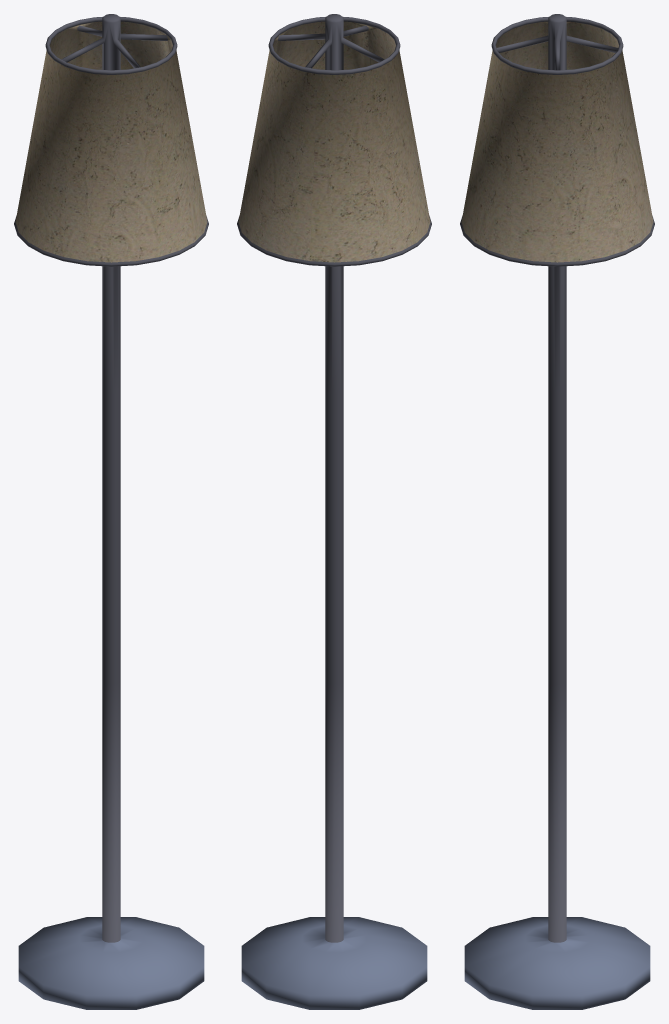
Rendered from floorlamp.obj.
The picture shows the model from 3 angles, left to right: view 1: azimuth 30°, elevation 25°; view 2: azimuth 150°, elevation 25°; view 3: azimuth 270°, elevation 25°; orthographic projection.
Parts seen in each view (by area): view 1: Default; view 2: Default; view 3: Default.
Boxes of the visible parts, <box> form: Default: <box>14,14,208,1009</box>; Default: <box>237,14,431,1009</box>; Default: <box>460,14,654,1009</box>.
Size of the model in its own units: 0.304 by 1.64 by 0.304.
Materials: 1 (1 with a texture image).
